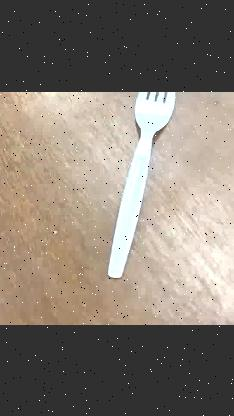Others: (106, 91, 176, 279)
